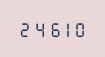four: (32, 20, 45, 37)
one: (60, 20, 73, 37)
six: (46, 20, 59, 37)
two: (18, 20, 31, 37)
zero: (74, 20, 87, 37)
